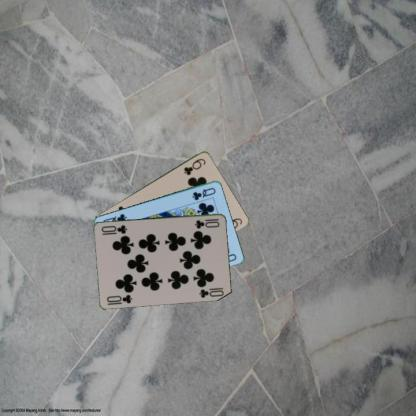10c: (104, 291, 134, 306), (192, 216, 221, 229)
6c: (181, 156, 207, 177)
Qc: (190, 185, 216, 202)
